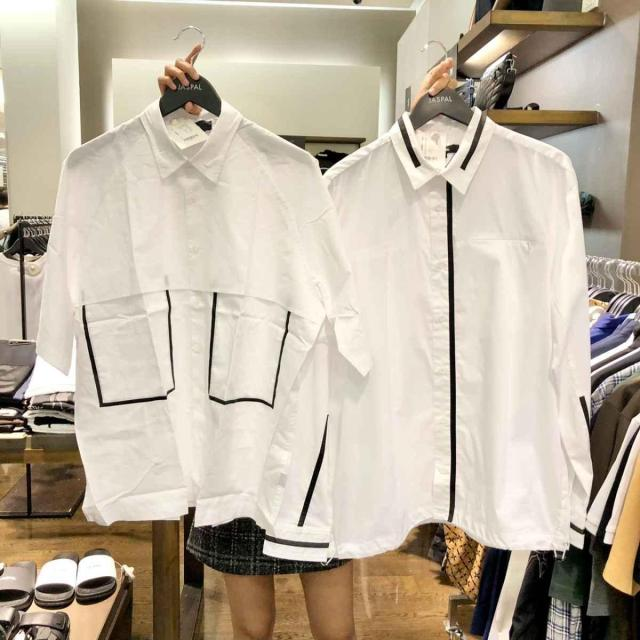shirt: (40, 108, 333, 524), (328, 126, 596, 548)
